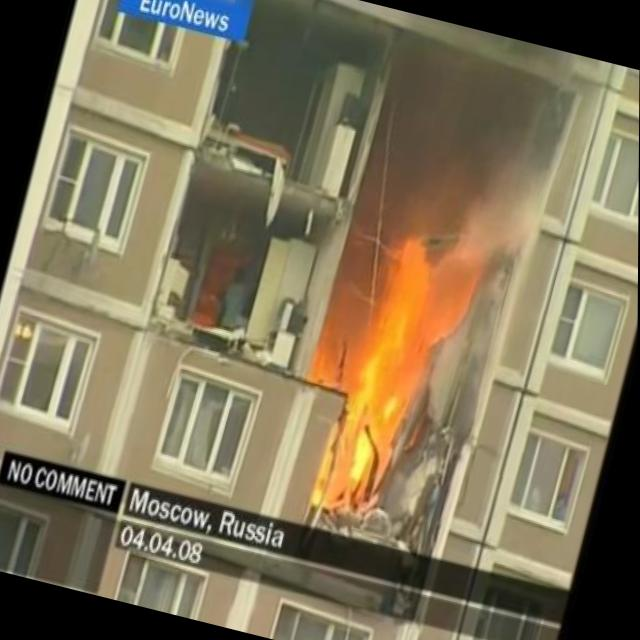fire: (300, 217, 486, 539)
